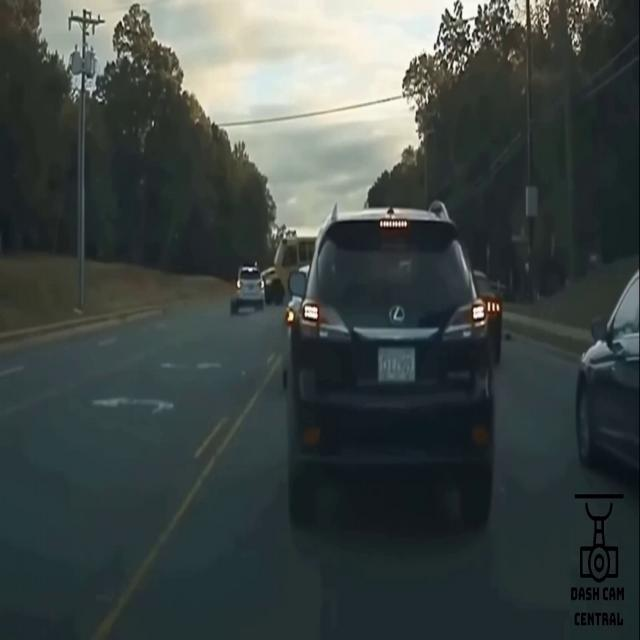accident: (229, 238, 295, 312)
